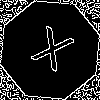X: (25, 25, 76, 82)
